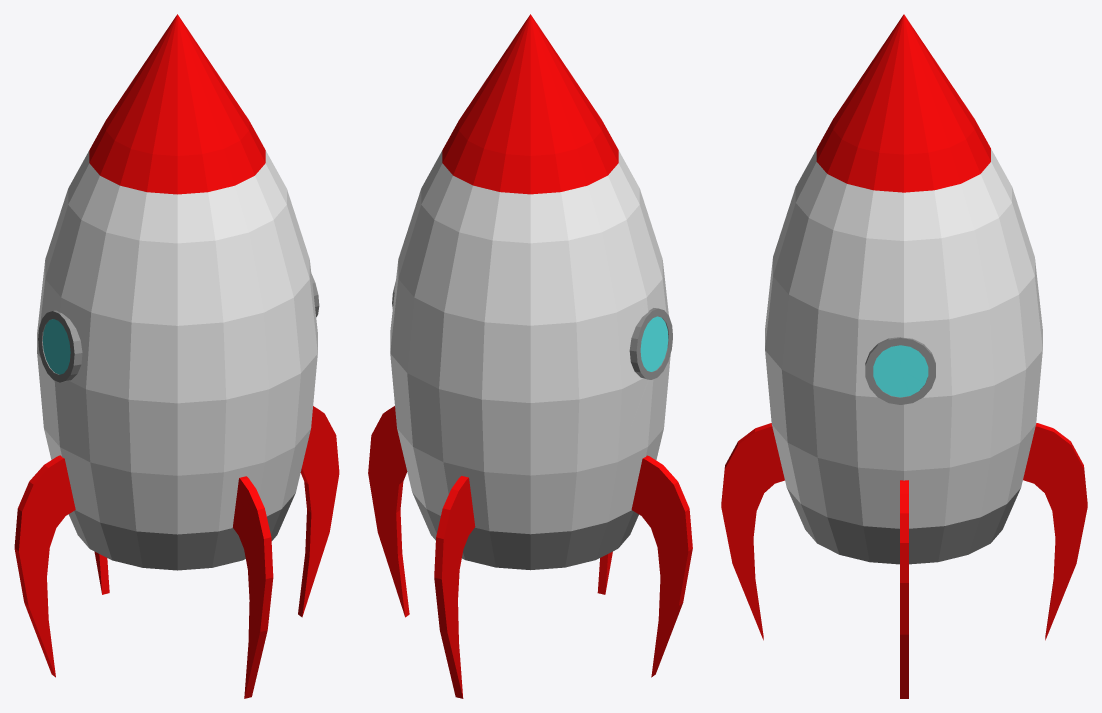
File: space-rocket.glb
The picture shows the model from 3 angles, left to right: view 1: azimuth 30°, elevation 25°; view 2: azimuth 150°, elevation 25°; view 3: azimuth 270°, elevation 25°; orthographic projection.
Bounding box in the file's own units: 19246 × 36264 × 19246.
